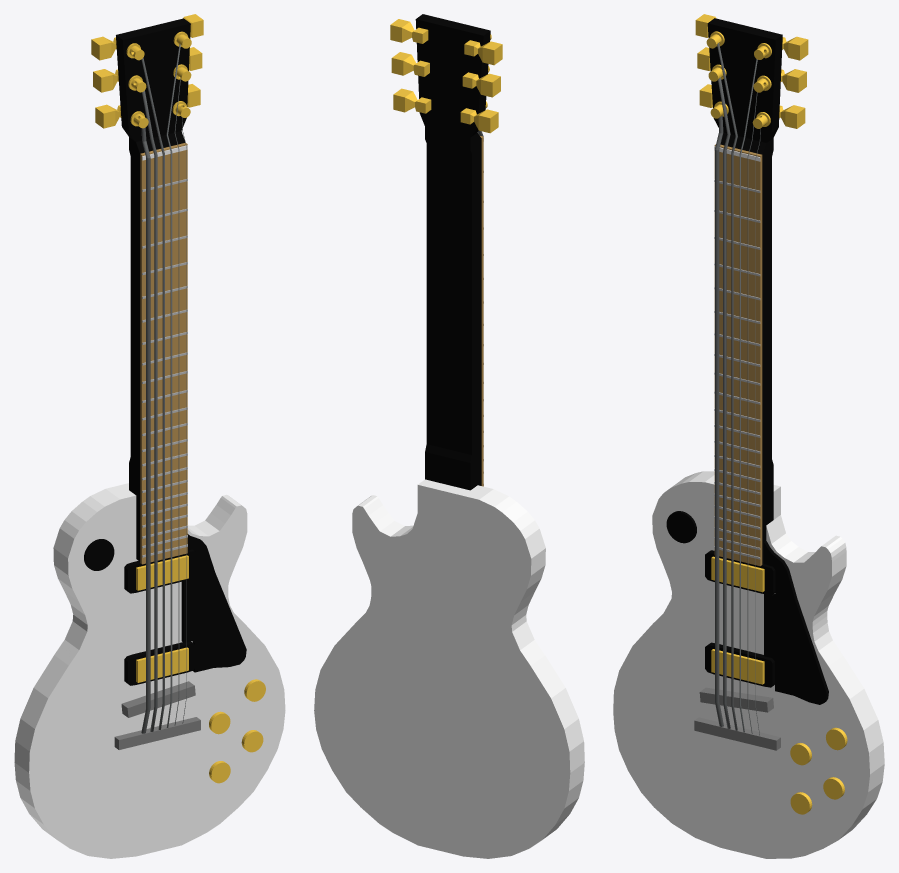
Rendered from Gibson Les Paul Guitar.fbx.
3 views of the same model, side by side, from view 1: azimuth 30°, elevation 25°; view 2: azimuth 150°, elevation 25°; view 3: azimuth 330°, elevation 25° (orthographic).
Parts seen in each view (by area): view 1: Body, Fretboard, Head, Pickgaurd, Neck, String E, String A, String D, String G, Bridge, String B, Saddle (+6 smaller); view 2: Body, Neck, Head, Fretboard, Tuning Peg (D), Tuning Peg (E), Tuning Peg (B), Tuning Peg (e), Tuning Peg (G), Tuning Peg (A); view 3: Body, Fretboard, Head, Pickgaurd, Neck, String E, String A, String D, String G, Bridge, String B, Bridge Pickup (+6 smaller).
Part boxes in pixels (x1=…): Body: x1=14, y1=483, x2=285, y2=858; Fretboard: x1=140, y1=143, x2=187, y2=564; Head: x1=116, y1=18, x2=190, y2=162; Pickgaurd: x1=181, y1=534, x2=246, y2=672; Neck: x1=129, y1=154, x2=140, y2=561; String E: x1=141, y1=127, x2=150, y2=733; String A: x1=142, y1=90, x2=157, y2=731; String D: x1=141, y1=58, x2=164, y2=729; String G: x1=166, y1=44, x2=180, y2=727; Bridge: x1=114, y1=717, x2=200, y2=749; String B: x1=174, y1=78, x2=180, y2=725; Saddle: x1=121, y1=681, x2=195, y2=717; Body: x1=314, y1=479, x2=584, y2=858; Neck: x1=425, y1=139, x2=481, y2=490; Head: x1=415, y1=14, x2=490, y2=161; Fretboard: x1=480, y1=136, x2=483, y2=486; Tuning Peg (D): x1=464, y1=40, x2=502, y2=65; Tuning Peg (E): x1=460, y1=108, x2=498, y2=133; Tuning Peg (B): x1=391, y1=52, x2=429, y2=76; Tuning Peg (e): x1=393, y1=88, x2=431, y2=113; Tuning Peg (G): x1=390, y1=19, x2=428, y2=43; Tuning Peg (A): x1=462, y1=72, x2=500, y2=97; Body: x1=613, y1=471, x2=884, y2=858; Fretboard: x1=714, y1=144, x2=762, y2=566; Head: x1=707, y1=18, x2=782, y2=163; Pickgaurd: x1=764, y1=540, x2=828, y2=704; Neck: x1=762, y1=155, x2=773, y2=563; String E: x1=715, y1=115, x2=723, y2=726; String A: x1=718, y1=77, x2=730, y2=728; String D: x1=717, y1=43, x2=737, y2=730; String G: x1=739, y1=59, x2=757, y2=732; Bridge: x1=694, y1=717, x2=780, y2=750; String B: x1=747, y1=92, x2=757, y2=733; Bridge Pickup: x1=711, y1=649, x2=764, y2=684.
Size of the model in its own units: 133 by 406 by 21.08.
